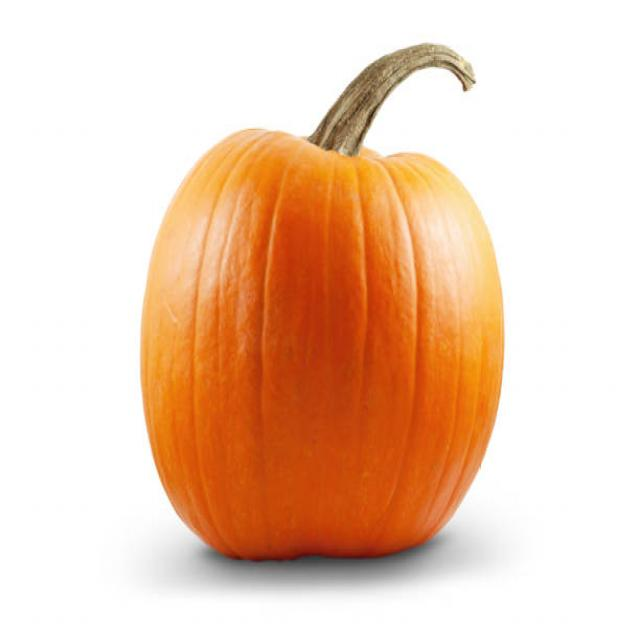Pumpkin: (133, 118, 512, 568)
